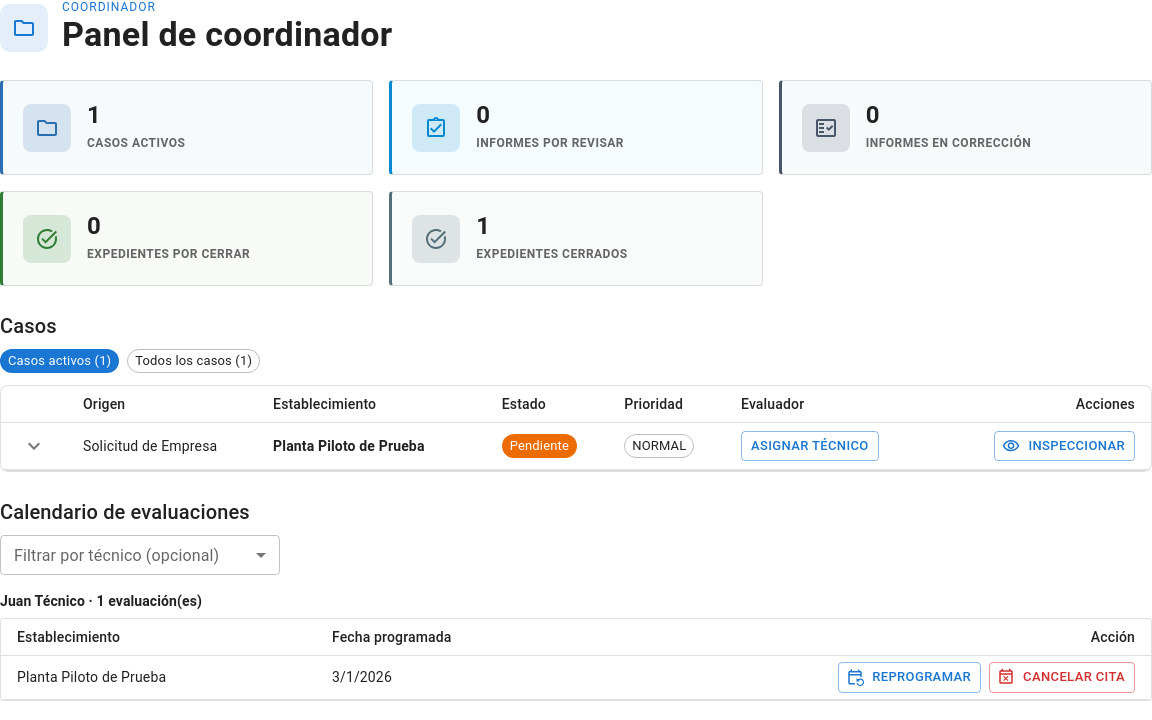
Test: Calendario del coordinador — cancelar cita › ofrece "Cancelar cita" en una cita Programada y la cancela con el motivo indicado
Click the button "Cancelar cita": [1062, 677] box [989,662,1135,693]
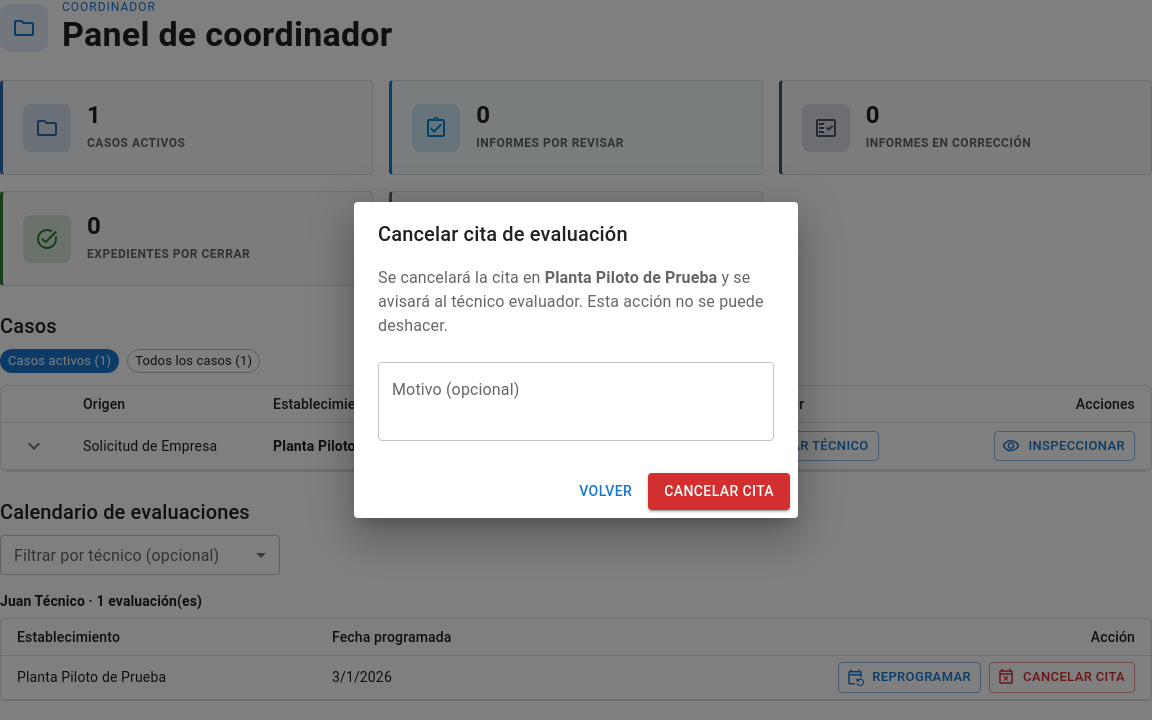
Result: the text "Planta Piloto de Prueba" is shown at [545,268,717,287]
In the text box labelled "Motivo (opcional)": [576, 402] box [392,379,760,425], type "Cliente no disponible"
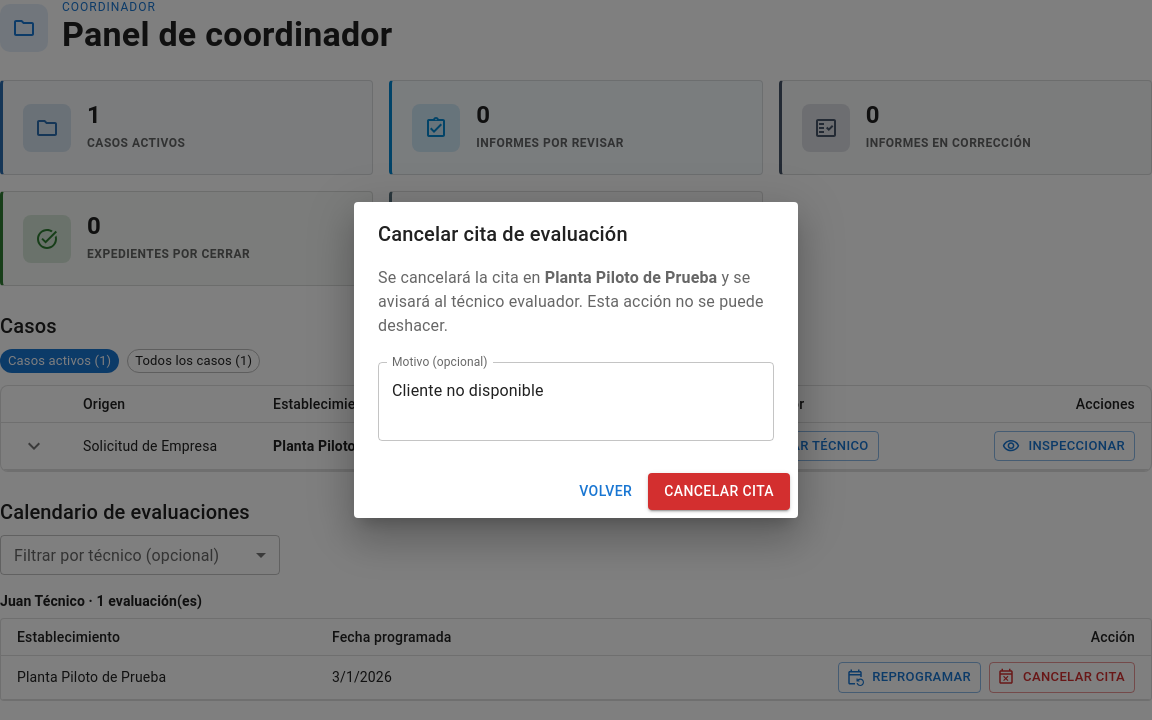
Click the button "Cancelar cita": [719, 492] box [648,473,790,510]
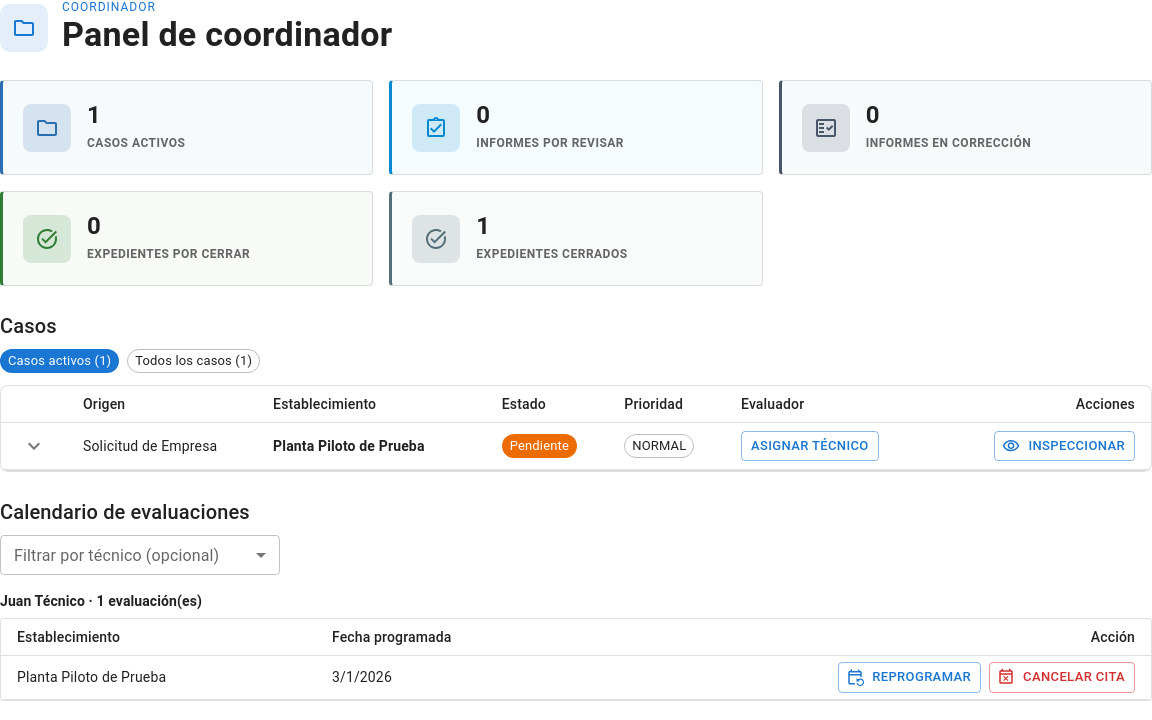
Result: the dialog is gone
